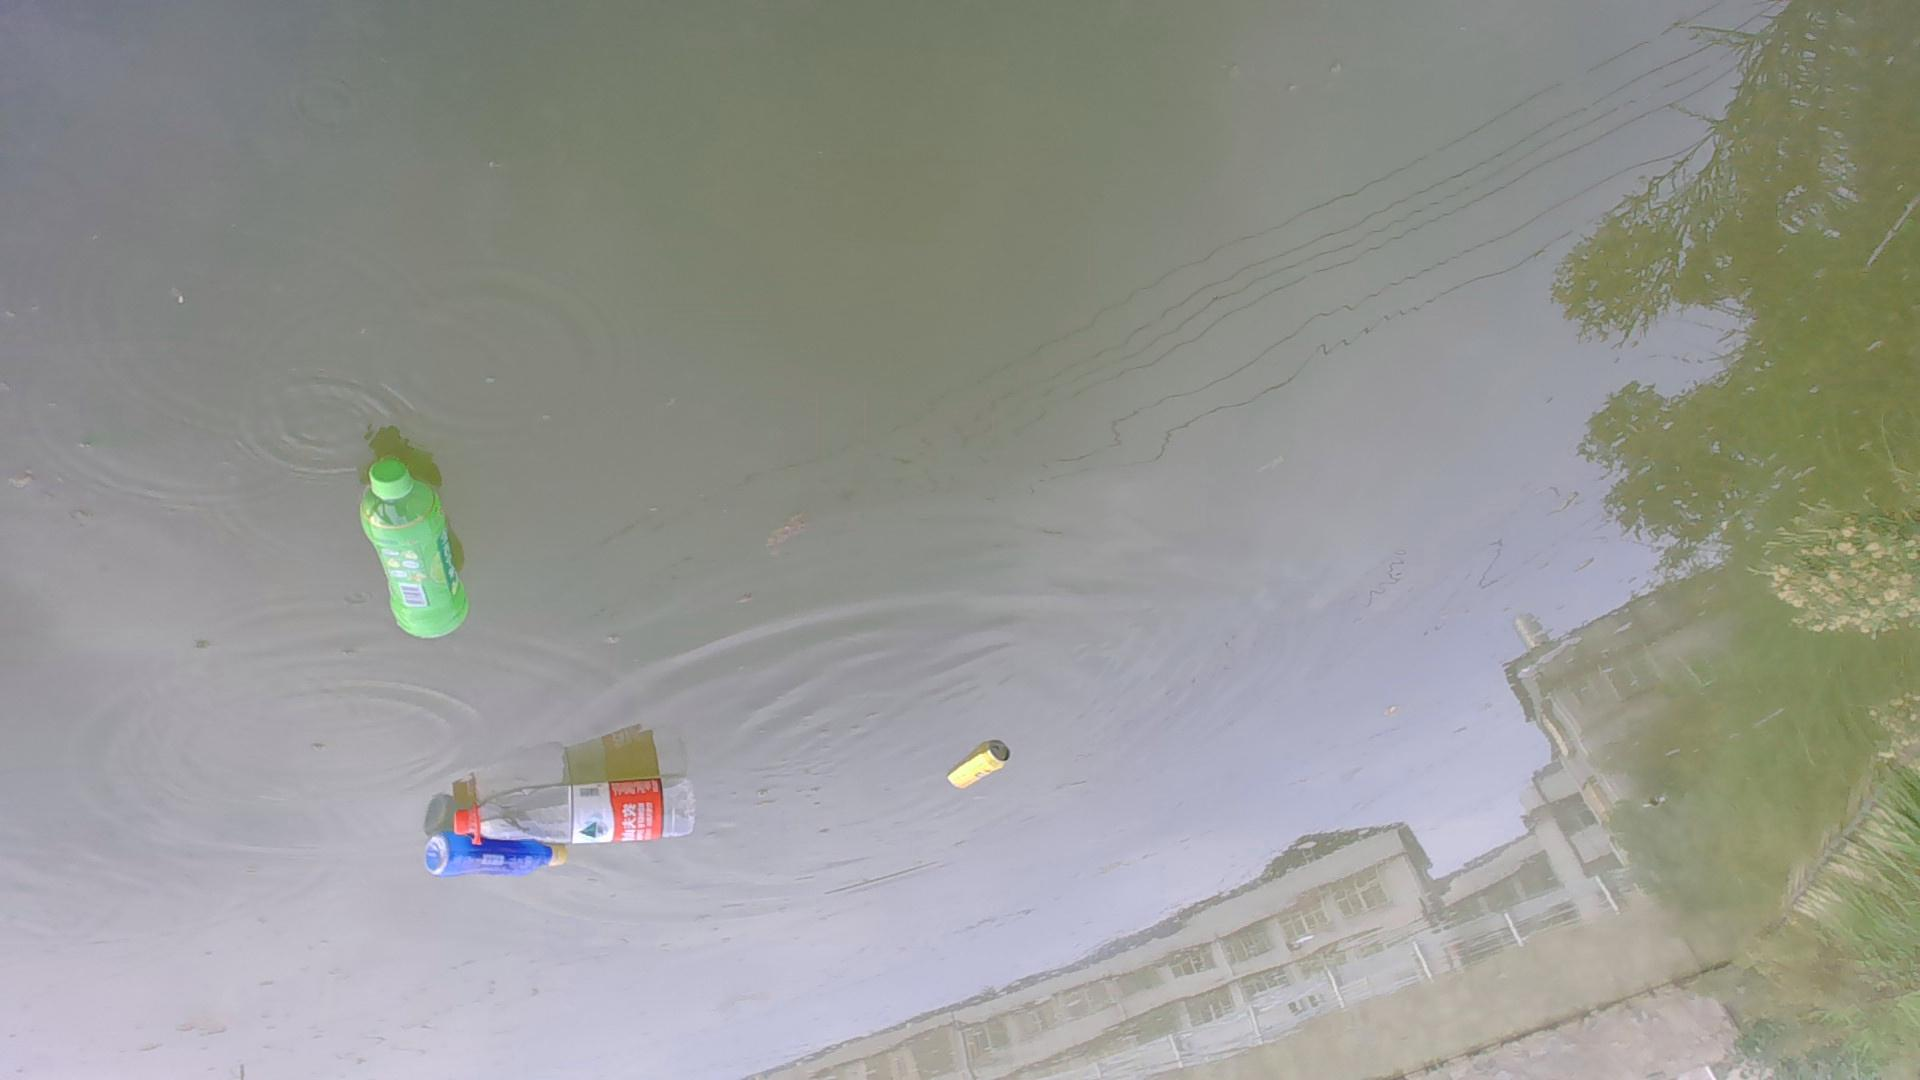Metal: (935, 735, 1013, 804)
Plastic: (351, 454, 472, 644), (447, 769, 705, 851), (415, 833, 578, 895)
